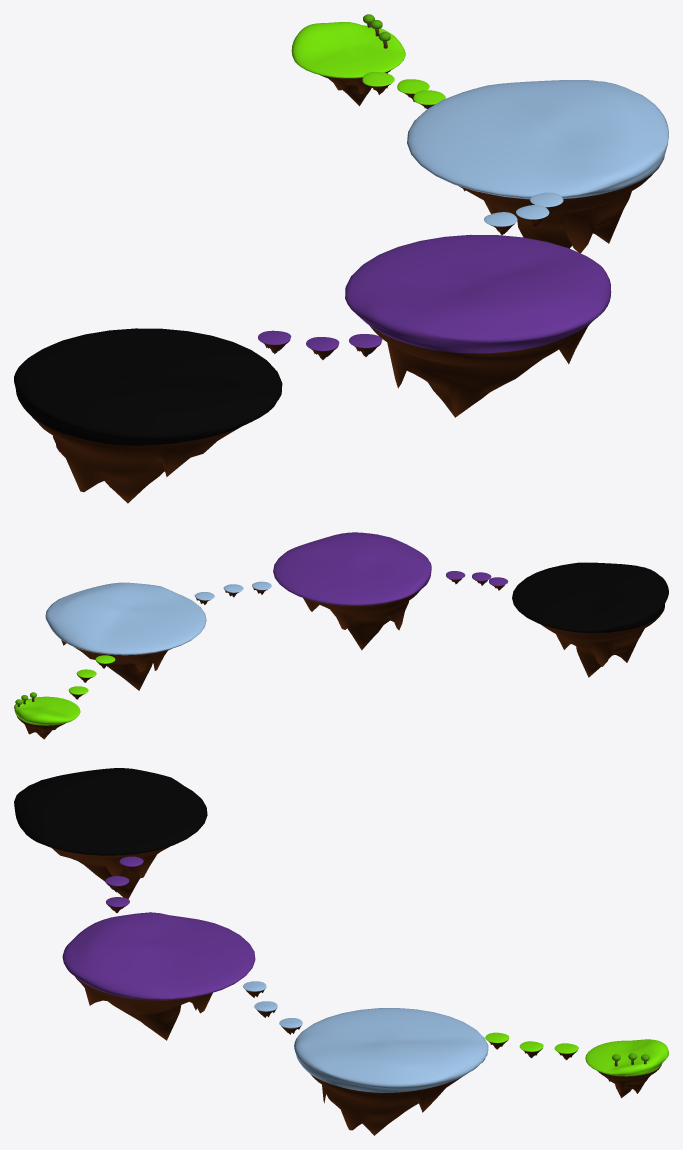
Rendered from world.glb.
The picture shows the model from 3 angles, top to bottom: view 1: azimuth 30°, elevation 25°; view 2: azimuth 150°, elevation 25°; view 3: azimuth 270°, elevation 25°; orthographic projection. The views are drawn at different scales.
Parts seen in each view (by area): view 1: world; view 2: world; view 3: world.
Boxes of the visible parts, x1,y1,x2,y2 form: world: (14,14,668,503); world: (14,532,668,739); world: (14,768,668,1135).
Size of the model in its own units: 447 by 96.71 by 430.
